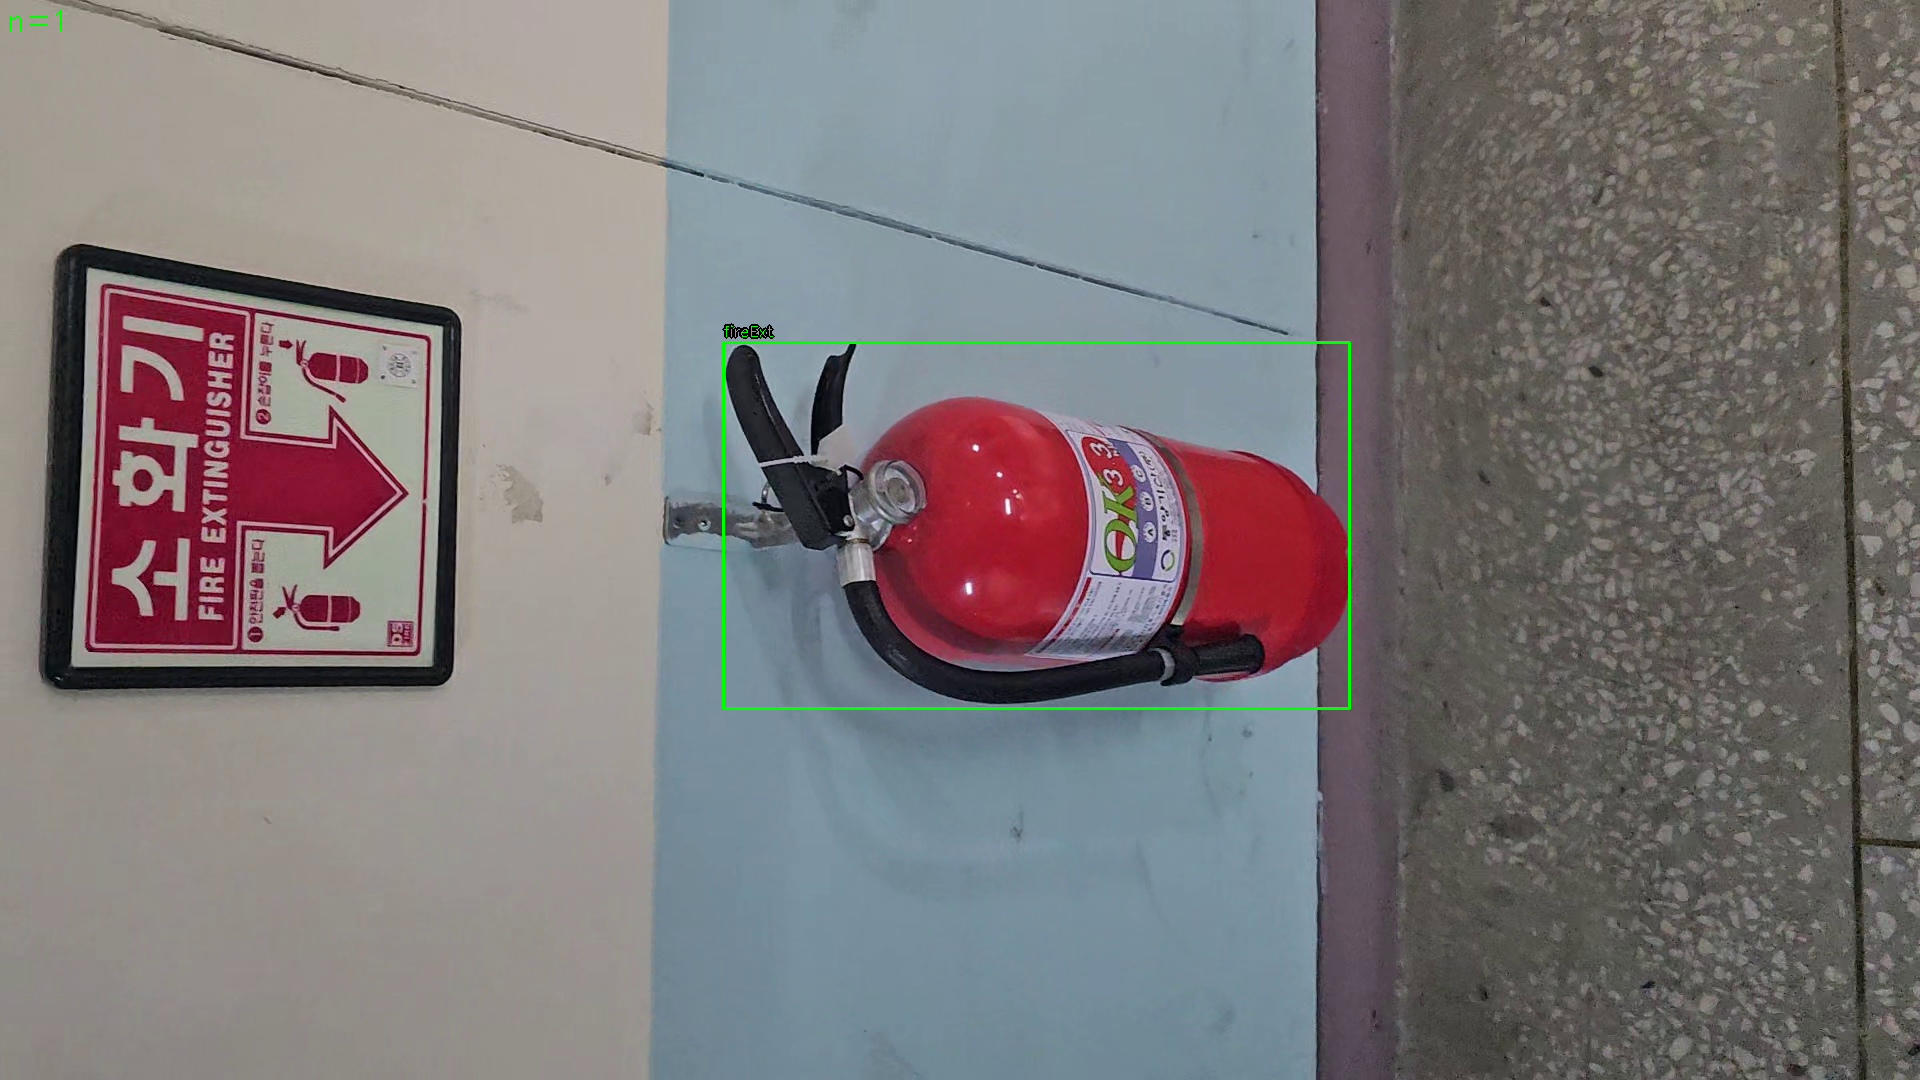lane: (723, 342, 1350, 709)
